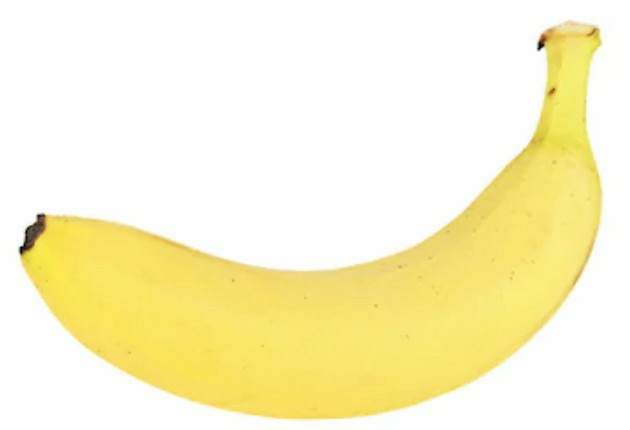fresh_banana: (26, 29, 606, 415)
